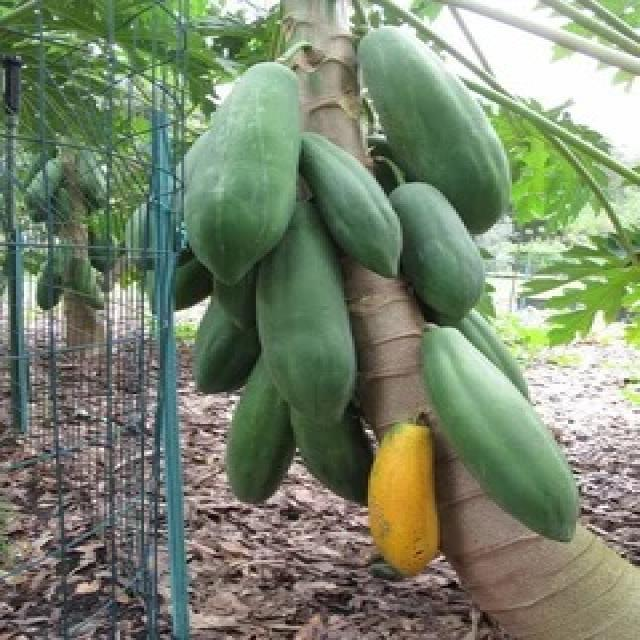Pepaya rippen: (363, 428, 448, 572)
Pepaya unrippen: (424, 334, 587, 544), (360, 26, 523, 220), (181, 54, 299, 288), (254, 264, 366, 416), (304, 136, 405, 276), (400, 196, 485, 332), (227, 390, 293, 506)
